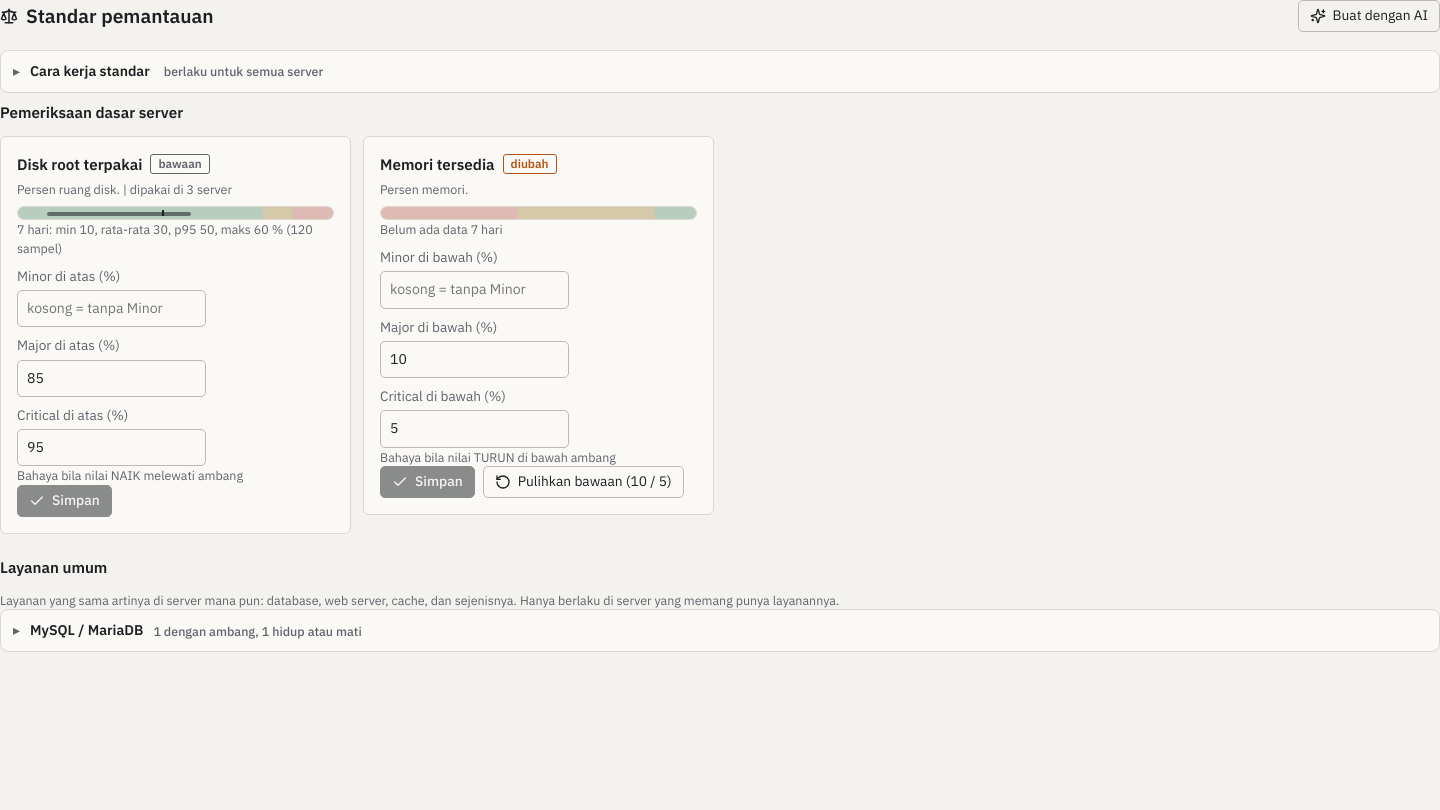
Test case: StandardsPage › satu halaman global: kartu dasar dan paket, berapa server memakainya, label bawaan atau diubah; yang hidup-mati tidak punya ambang
The image size is (1440, 810).
Expected: the element "Disk root terpakai" is shown, 0,136 -> 351,534
Expected: the text "berlaku untuk semua server" is shown, 164,62 -> 323,81
Click the text "MySQL / MariaDB" at (87, 631), box 30,620 -> 143,642
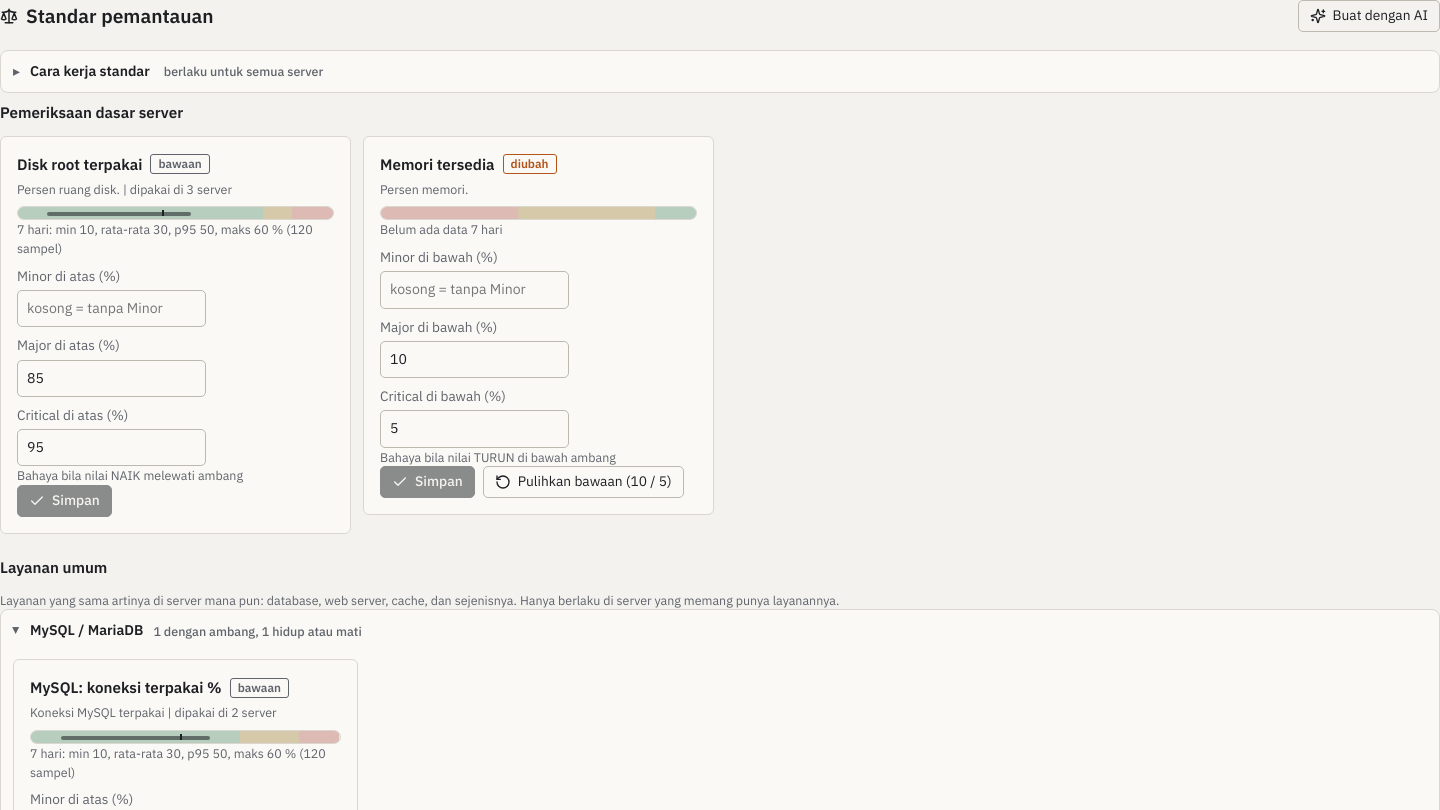
Expected: the text "Koneksi MySQL terpakai | dipakai di 2 server" is shown, 30,704 -> 277,720
